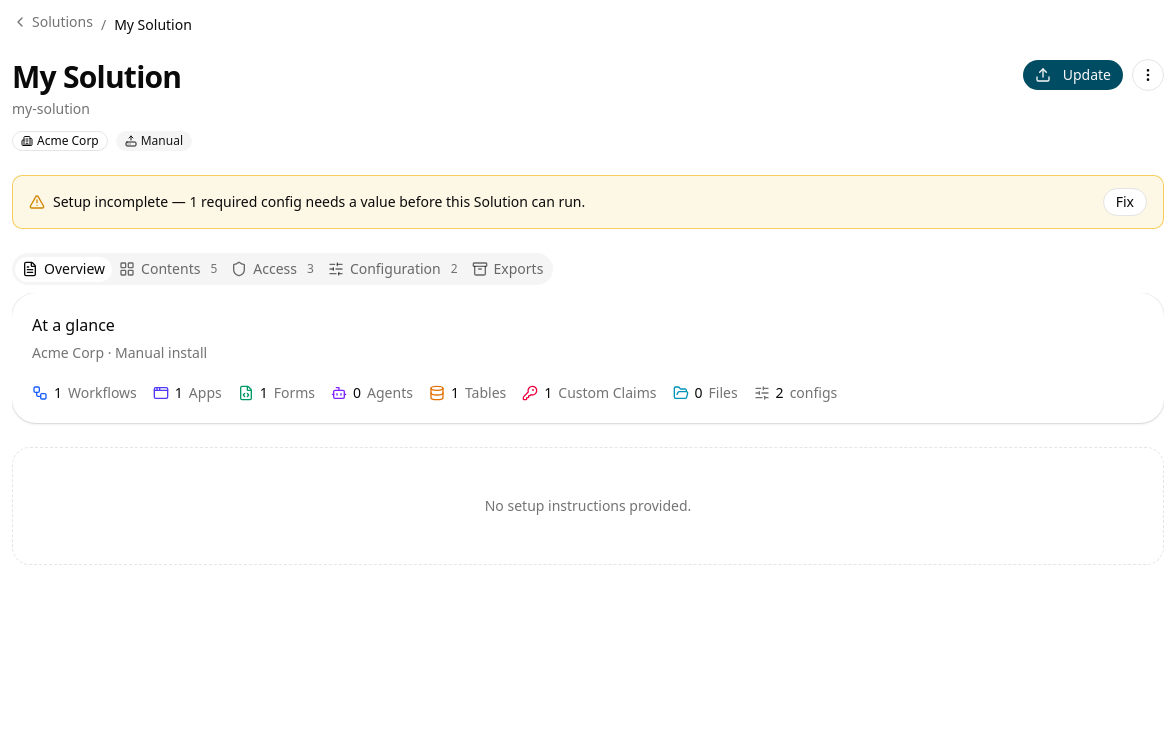
Test: SolutionDetail › renders the update action and the overflow menu in the header
Expected: the button "Update" is shown, [1022,59,1124,91]
Click the button with test id "solution-actions" at [1148, 75], box [1132,59,1164,91]
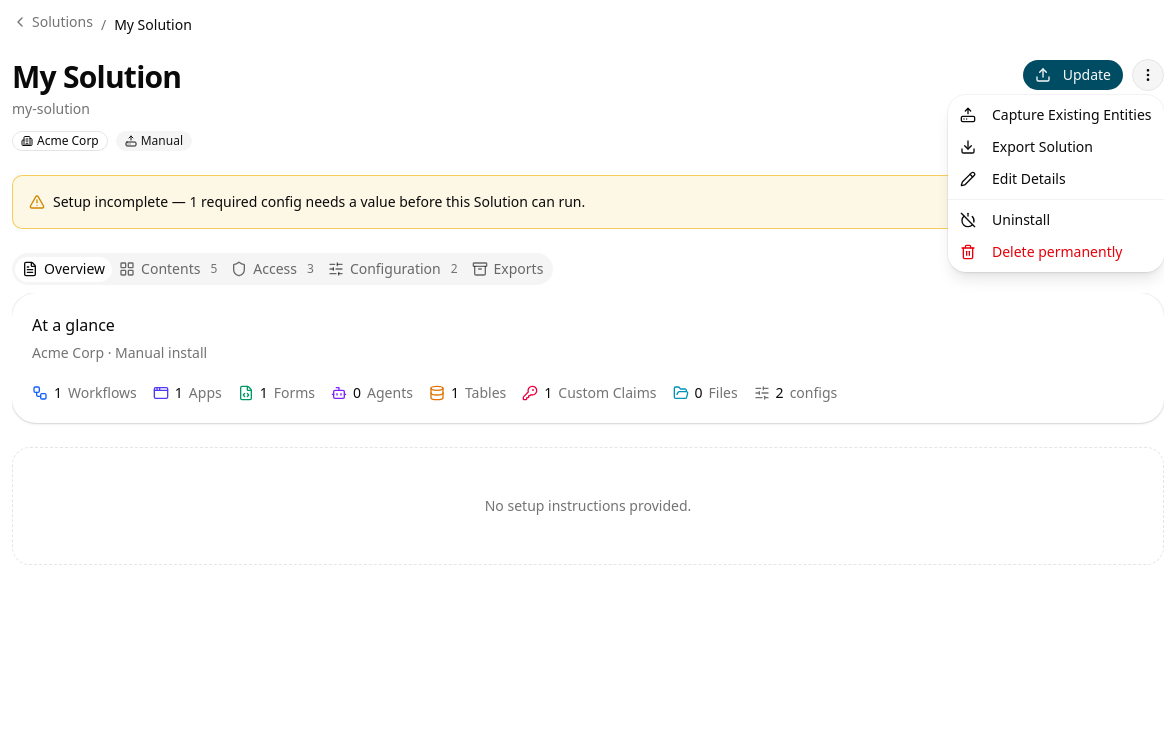
Result: the menu item "Capture Existing Entities" is shown at [960,105,1152,124]
